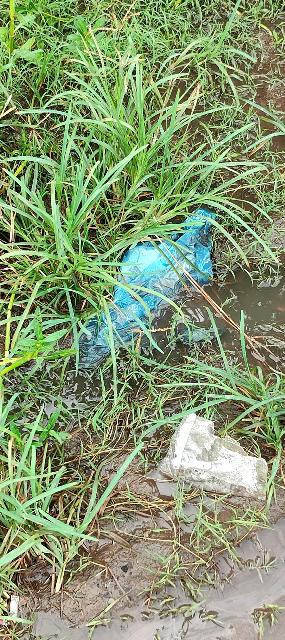polythene: (61, 207, 229, 375)
